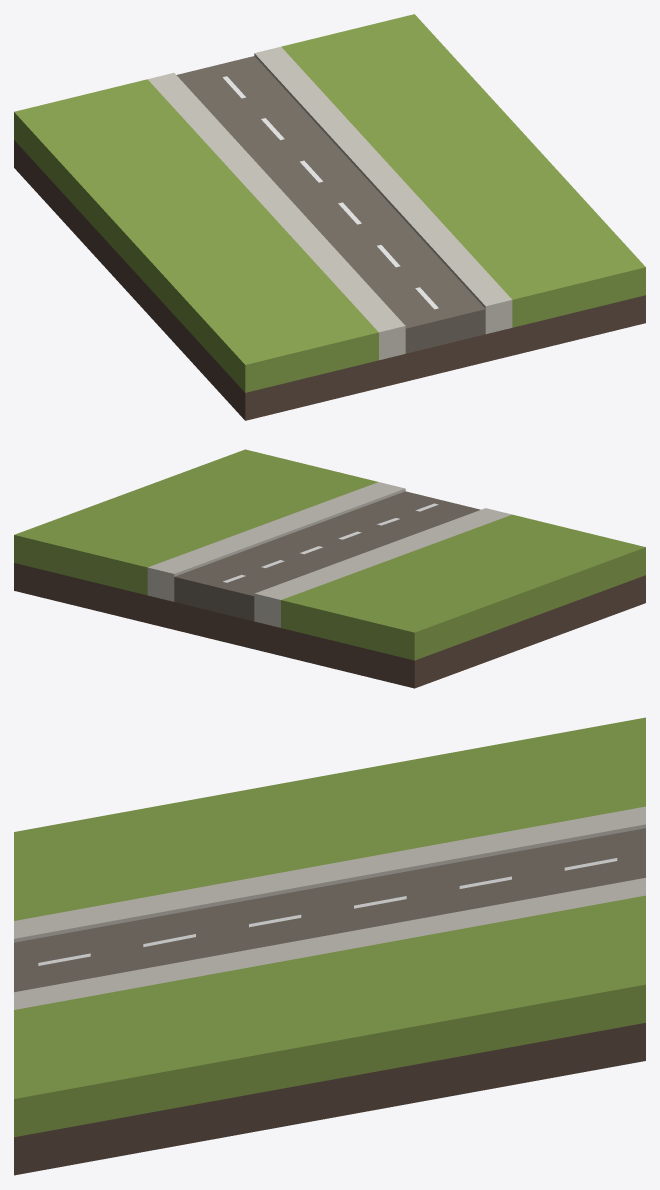
The model's file is road-tile-straight_hill.fbx.
3 renders of one model, top to bottom at view 1: azimuth 30°, elevation 25°; view 2: azimuth 150°, elevation 25°; view 3: azimuth 270°, elevation 25°, orthographic. The views are drawn at different scales.
Parts seen in each view (by area): view 1: road-tile-straight_hill; view 2: road-tile-straight_hill; view 3: road-tile-straight_hill.
Boxes of the visible parts, <box> form: road-tile-straight_hill: <box>14,14,645,420</box>; road-tile-straight_hill: <box>14,449,645,688</box>; road-tile-straight_hill: <box>14,717,645,1175</box>.
Size of the model in its own units: 3000 by 1000 by 3000.
